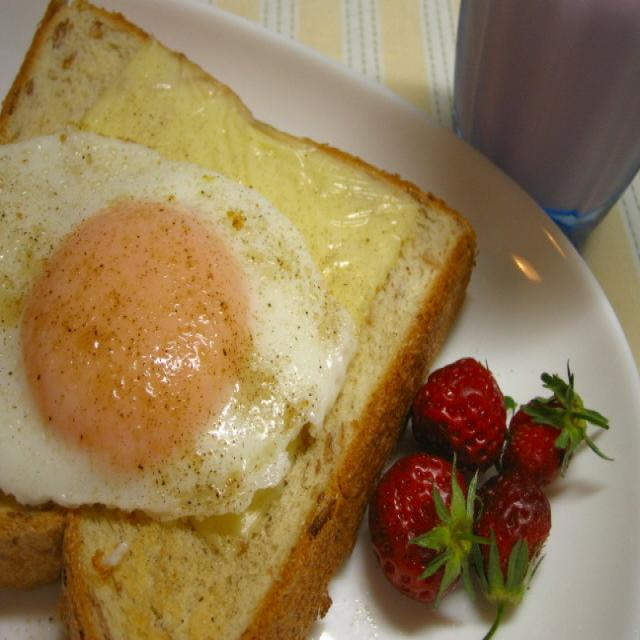面包点心: (0, 0, 474, 640)
